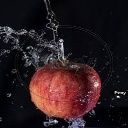apple: (26, 59, 102, 119)
